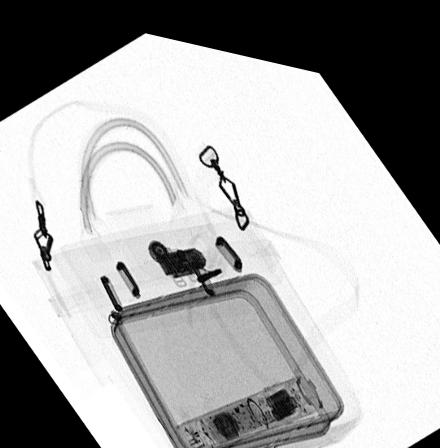Baton: (173, 361, 322, 448)
